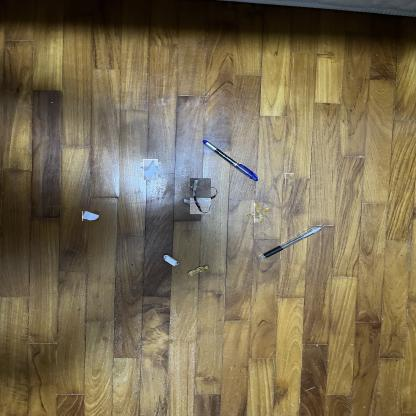dirty: (186, 182, 214, 210), (142, 160, 159, 179), (186, 265, 210, 277), (251, 205, 267, 220), (82, 211, 99, 221), (285, 173, 294, 186)
